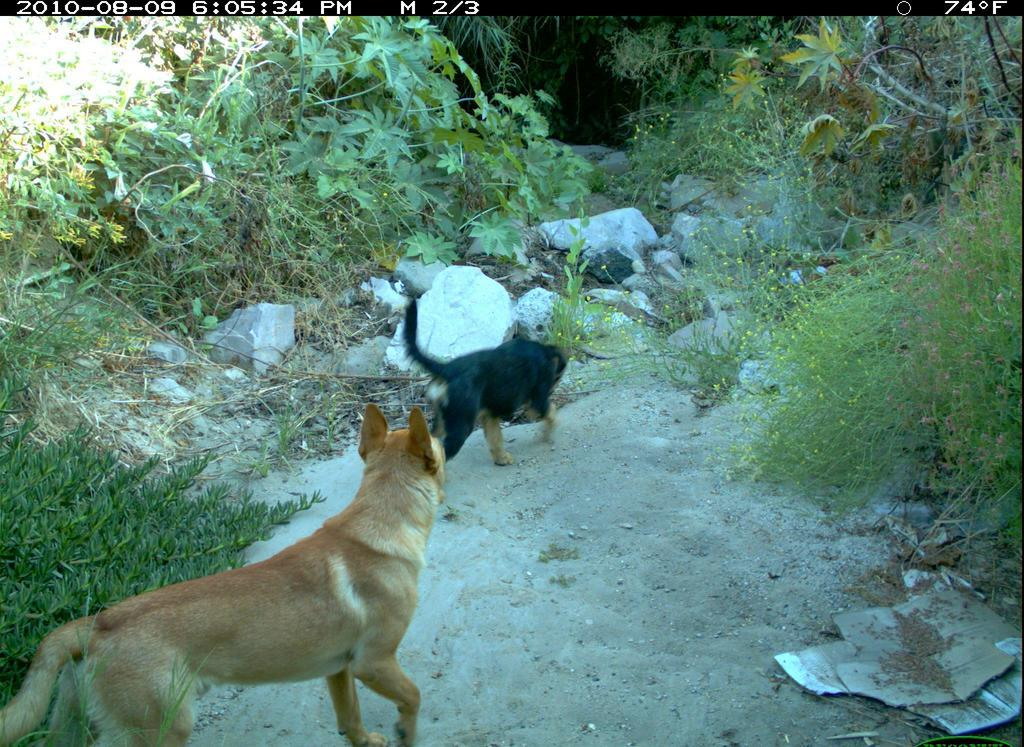dog: (2, 401, 456, 742), (391, 283, 587, 466)
